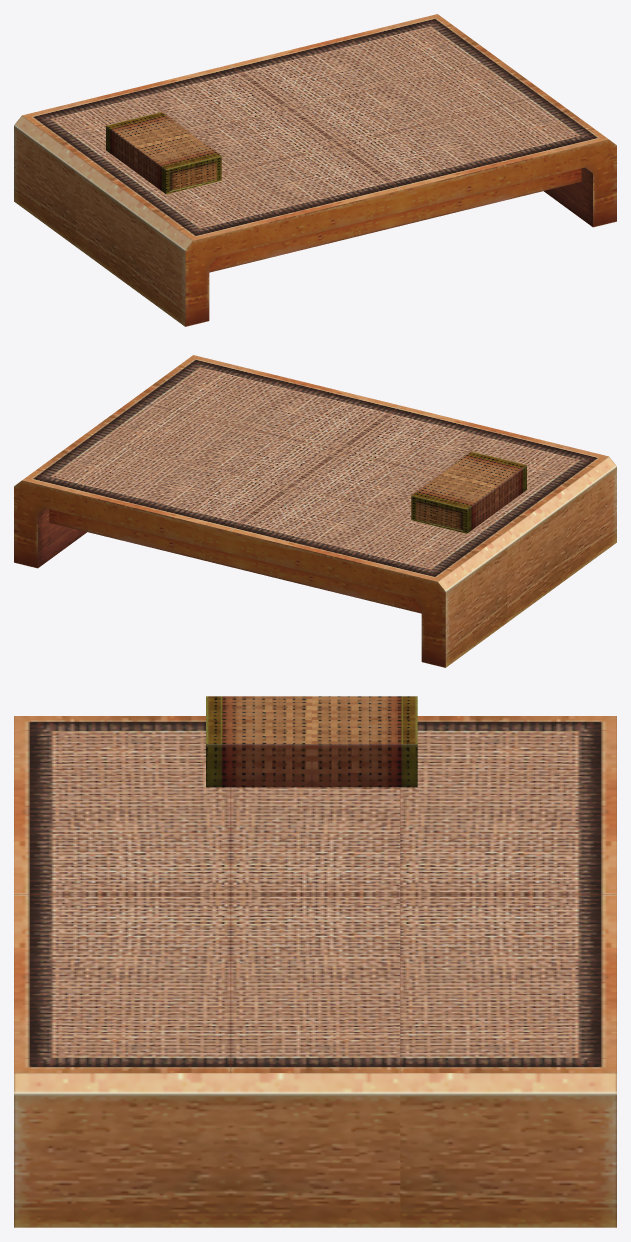
Rendered from SwordSpirit_Room_bed.FBX.
The picture shows the model from 3 angles, top to bottom: view 1: azimuth 30°, elevation 25°; view 2: azimuth 150°, elevation 25°; view 3: azimuth 270°, elevation 25°; orthographic projection. The views are drawn at different scales.
Visible parts, largest first — view 1: bed_01; view 2: bed_01; view 3: bed_01.
Part boxes in pixels (left/top/right/bottom): bed_01: left=14, top=14, right=616, bottom=326; bed_01: left=14, top=355, right=616, bottom=667; bed_01: left=14, top=696, right=616, bottom=1227.
Bounding box in the file's own units: 117 × 28.25 × 80.7.
Materials: 1 (1 with a texture image).
